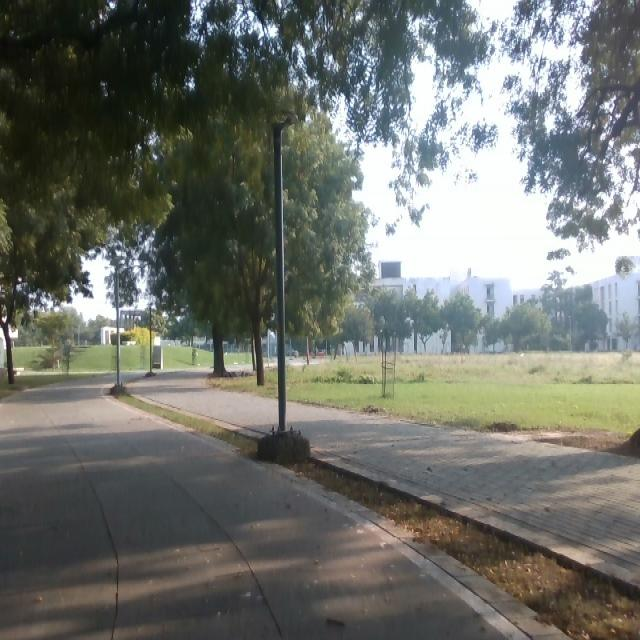lane: (2, 379, 505, 636)
